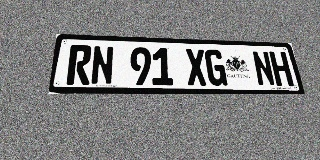1: (152, 48, 173, 85)
9: (130, 47, 152, 85)
G: (204, 49, 228, 86)
H: (269, 51, 294, 86)
N: (90, 46, 114, 85), (251, 51, 276, 86)
R: (66, 45, 92, 85)
X: (185, 49, 208, 86)
